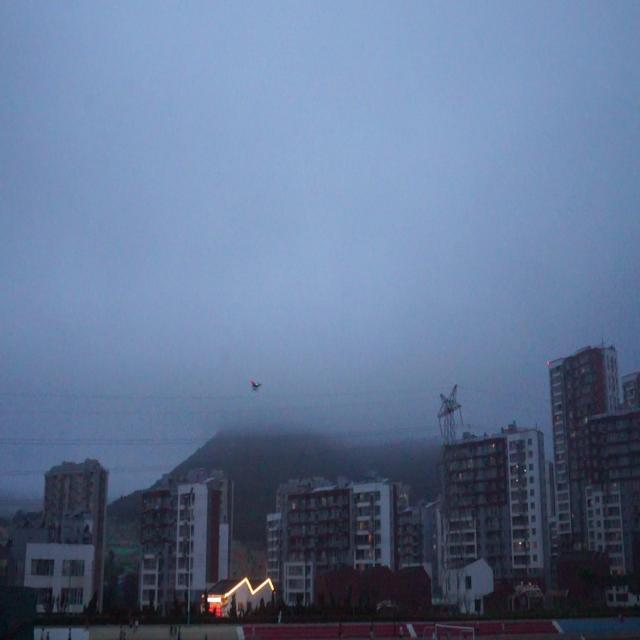UAV: (249, 381, 262, 394)
